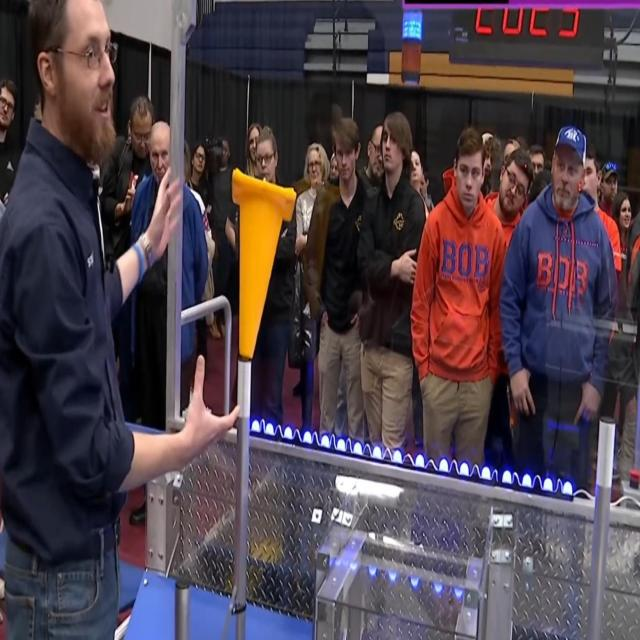frc_cone: (227, 169, 296, 357)
